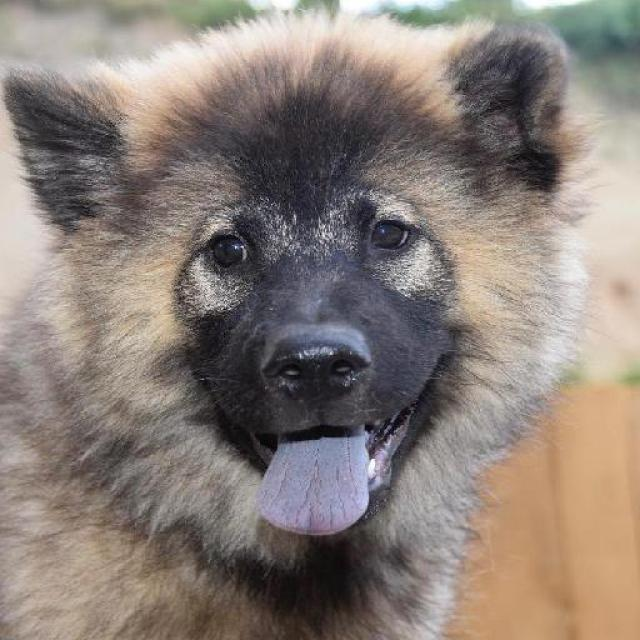happy: (5, 23, 612, 527)
